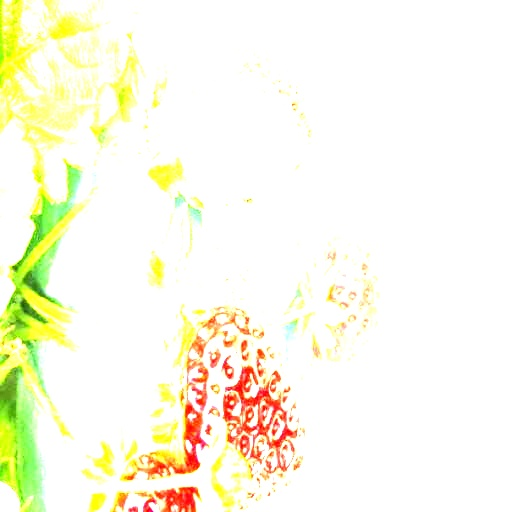Gray Mold: (155, 72, 312, 210), (179, 199, 304, 324)
